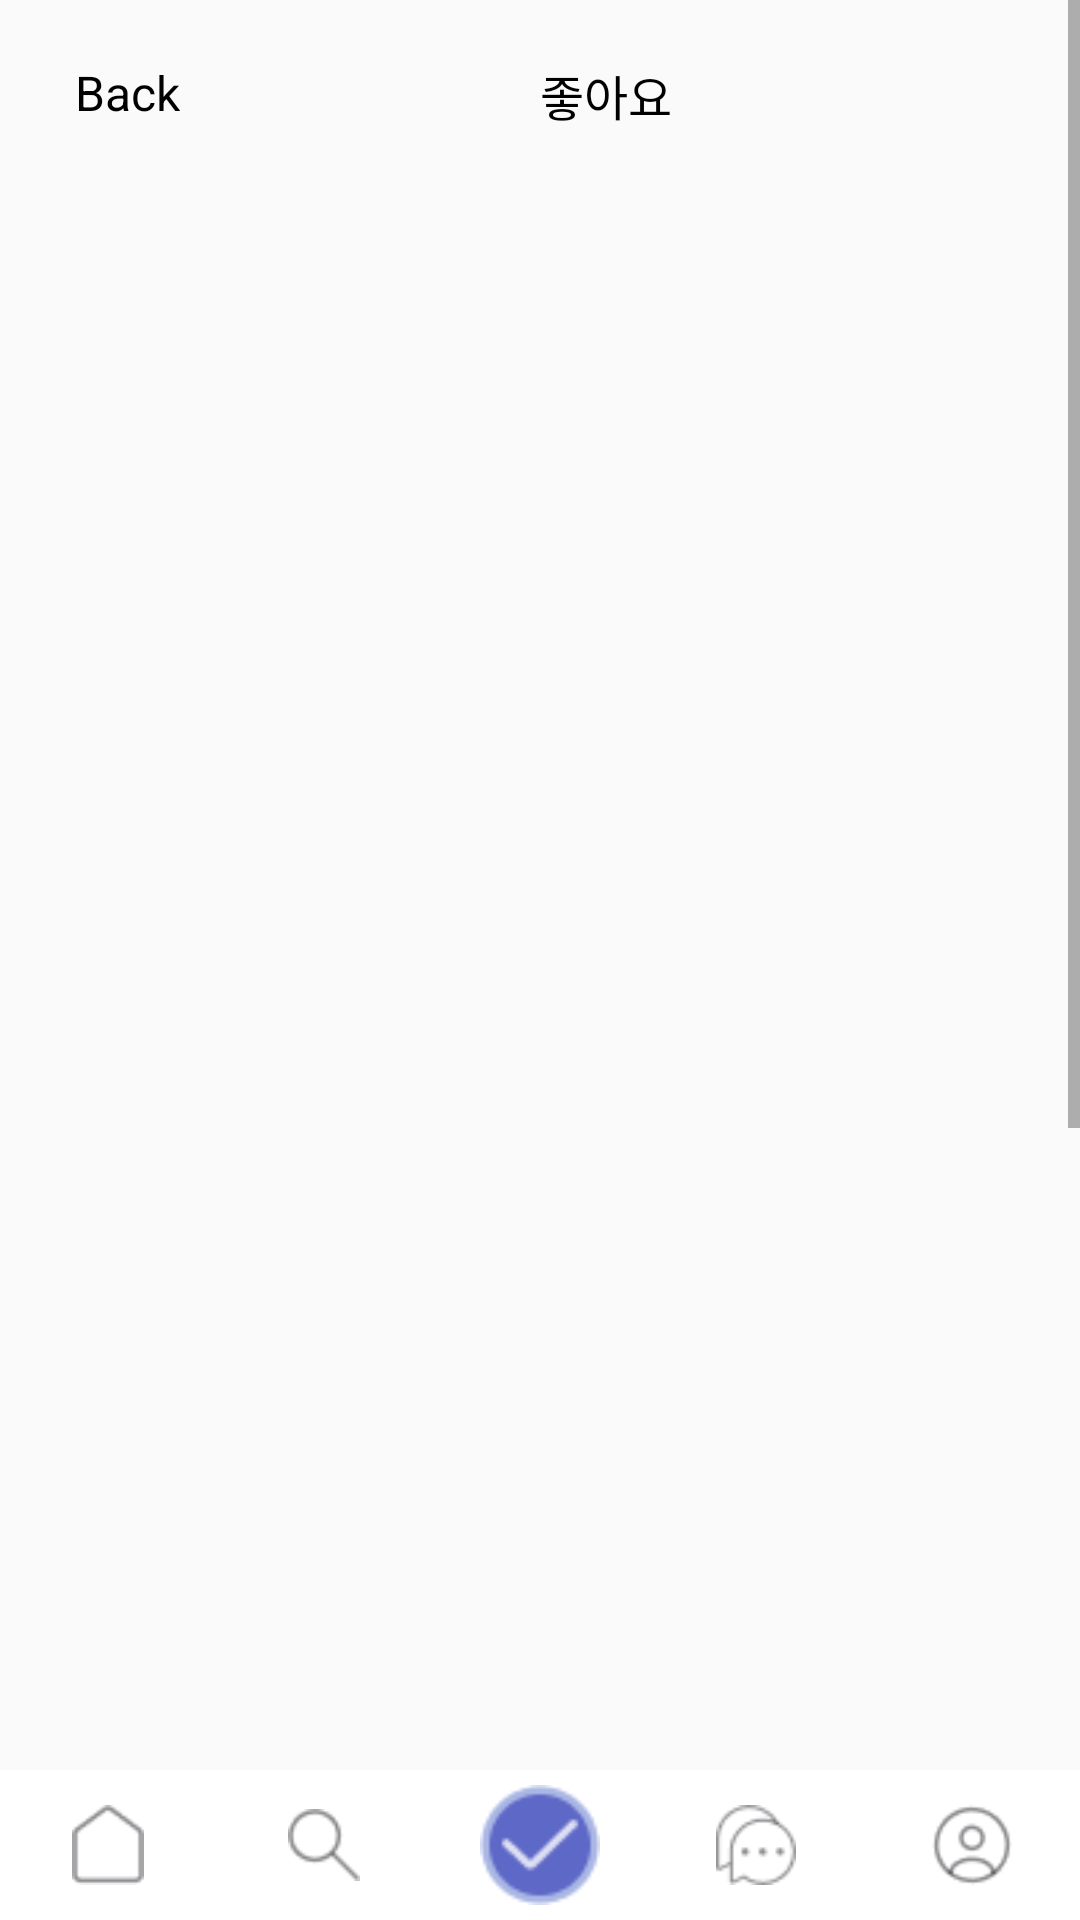

Icons on this 1080*1920 Android screen, each with its box as bbox(x1, y1, x2, y2):
homepage check: bbox(480, 1785, 600, 1905)
homepage home: bbox(72, 1805, 144, 1883)
homepage message: bbox(716, 1805, 796, 1885)
homepage profile: bbox(934, 1807, 1010, 1883)
homepage search: bbox(288, 1809, 360, 1881)
